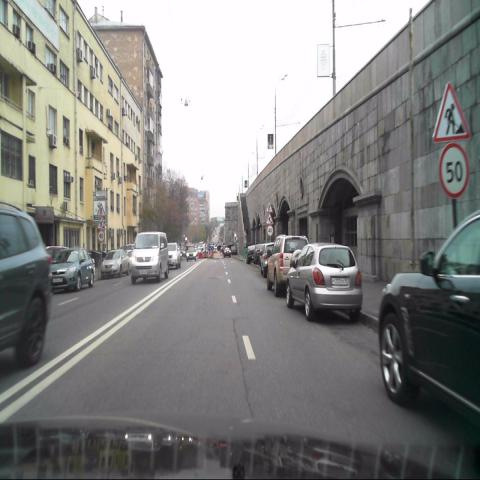1_20_3: (265, 200, 274, 213)
1_25: (432, 80, 470, 144), (266, 213, 274, 224)
3_24: (438, 141, 469, 197), (266, 224, 274, 236)
